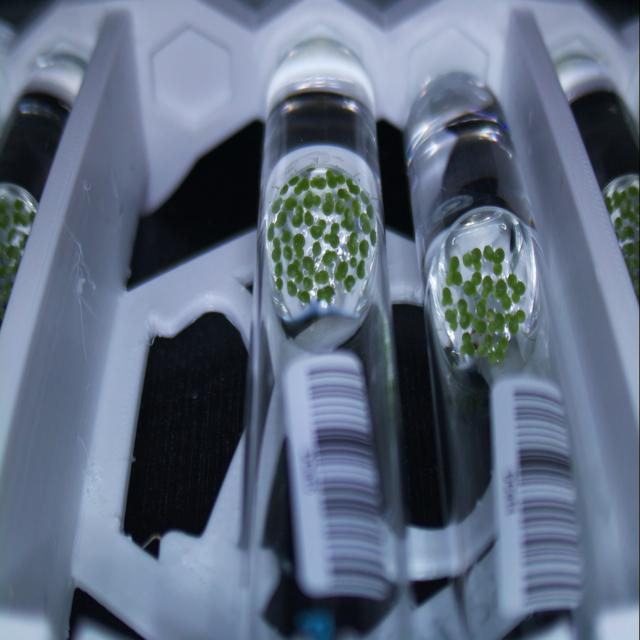Lemna-Gibba: (478, 334, 509, 364), (484, 245, 505, 275), (492, 279, 511, 310), (462, 270, 482, 299), (508, 274, 525, 304), (505, 310, 525, 335), (446, 255, 462, 285), (458, 299, 474, 329), (462, 247, 482, 270), (324, 223, 340, 250), (488, 312, 505, 335), (326, 168, 345, 188), (460, 332, 475, 357), (286, 259, 302, 282), (292, 233, 305, 258), (341, 207, 355, 230), (310, 218, 326, 238), (318, 285, 335, 302), (294, 177, 310, 195), (291, 205, 304, 227), (301, 255, 315, 275), (445, 309, 458, 330), (304, 192, 321, 208), (482, 275, 494, 297), (348, 232, 359, 255), (270, 197, 284, 215), (271, 237, 281, 262), (360, 213, 372, 233), (322, 250, 338, 265), (335, 262, 348, 280), (322, 192, 332, 215), (472, 319, 486, 335), (346, 178, 359, 195), (310, 175, 326, 188), (476, 299, 486, 319), (441, 287, 452, 305), (315, 270, 329, 284), (351, 198, 361, 217), (359, 238, 369, 257), (275, 262, 282, 289), (344, 275, 355, 292), (338, 188, 351, 202), (284, 197, 298, 210), (356, 259, 365, 279), (304, 210, 314, 227), (288, 280, 298, 297), (298, 290, 310, 304), (366, 203, 375, 220), (335, 200, 345, 215), (282, 245, 292, 260), (279, 183, 289, 197), (276, 212, 285, 227), (312, 242, 321, 257), (302, 277, 312, 290), (281, 230, 291, 242), (268, 222, 275, 239), (349, 255, 358, 267), (370, 228, 376, 245), (289, 175, 299, 185), (360, 192, 369, 203), (486, 309, 494, 319), (306, 165, 315, 172)
